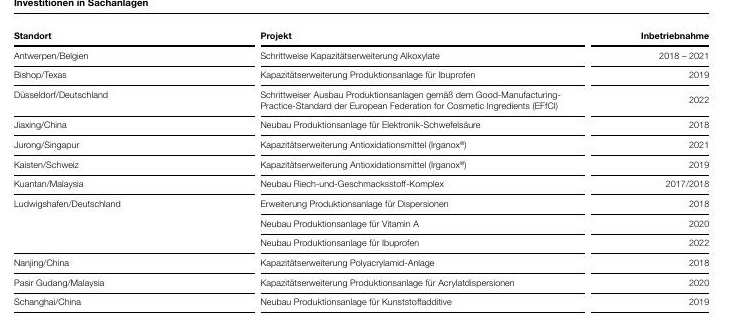table: (0, 0, 732, 326)
